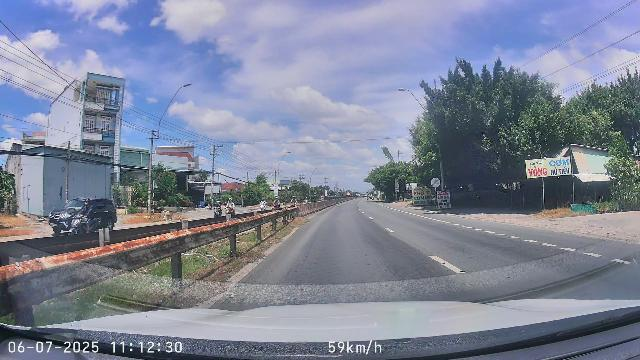133-het-cam-vuot: (430, 177, 440, 188)
